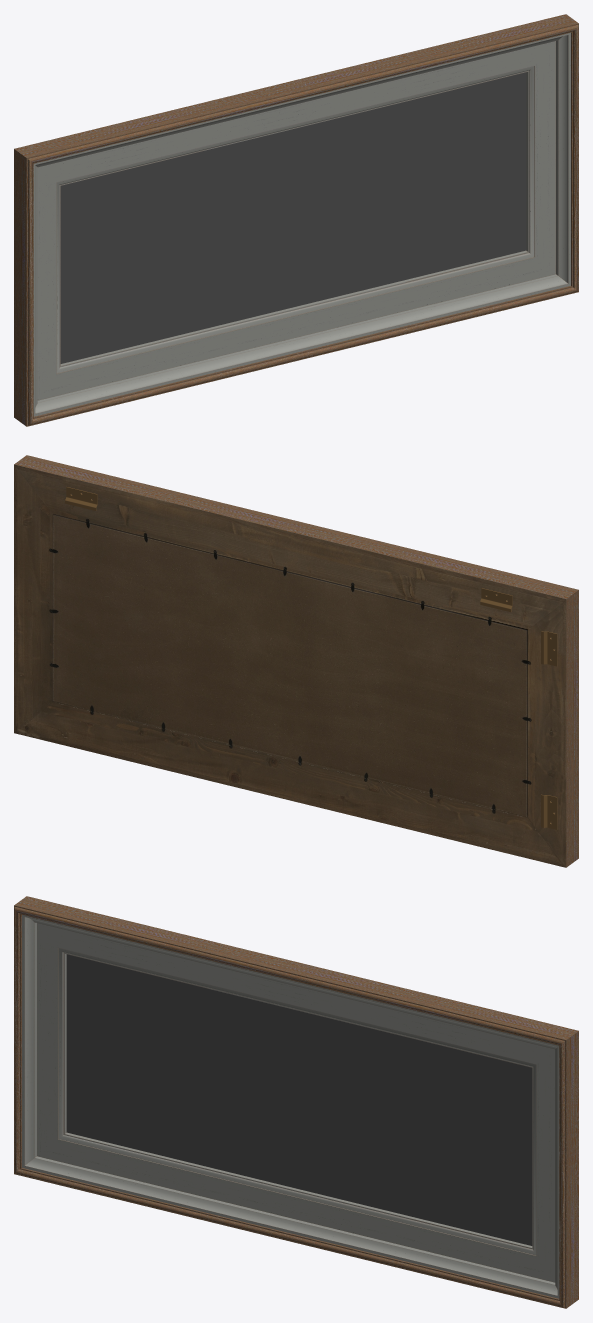
The model's file is example44.gltf.
3 renders of one model, top to bottom at view 1: azimuth 30°, elevation 25°; view 2: azimuth 150°, elevation 25°; view 3: azimuth 330°, elevation 25°, orthographic.
Bounding box in the file's own units: 157 × 73 × 7.8.
Materials: 5 (3 with a texture image).
